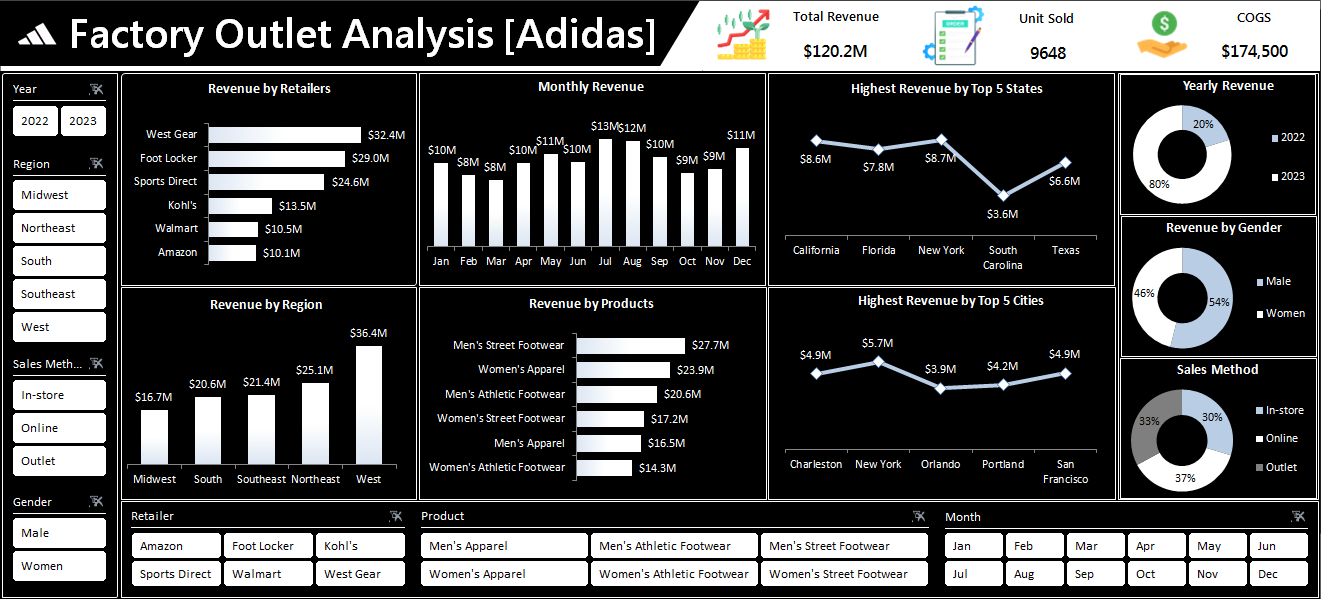

The page's visual inventory and layout, read from the dashboard file:
{"tool":"powerbi","page":{"name":"Factory Outlet Analysis [Adidas]","canvas":[3300,1800],"ordinal":0},"visuals":[{"type":"shape","box":[0,9.7,3298.4,238.7],"z":0},{"type":"shape","box":[372.5,9.7,1352.2,243.6],"z":0,"group":"g1"},{"type":"shape","box":[0,9.7,740.5,243.6],"z":1000,"group":"g1"},{"type":"card","title":"Total Revenue","fields":{"Values":["Factory Outlet Analysis [Adidas].Total Revenue"]},"box":[1817.3,14.6,448.2,229],"z":1000},{"type":"card","title":"Unit Sold","fields":{"Values":["Factory Outlet Analysis [Adidas].Unit Sold"]},"box":[2311.8,9.7,448.2,229],"z":2000},{"type":"card","title":"COGS","fields":{"Values":["Factory Outlet Analysis [Adidas].COGS"]},"box":[2806.3,14.6,448.2,229],"z":3000},{"type":"group","id":"g1","title":"Group 1","box":[0,9.7,1724.7,243.6],"z":4000},{"type":"textbox","box":[160.8,63.3,1398.3,136.4],"z":5000},{"type":"shape","box":[0,146.2,3298.4,238.7],"z":6000},{"type":"clusteredBarChart","title":"Revenue by Retailer","fields":{"Y":["Factory Outlet Analysis [Adidas].Total Revenue"],"Category":["Factory Outlet Analysis [Adidas].Retailer"]},"box":[340.9,277.3,868.2,662.5],"z":7000},{"type":"clusteredColumnChart","title":"Monthly Revenue","fields":{"Y":["Factory Outlet Analysis [Adidas].Total Revenue"],"Category":["Factory Outlet Analysis [Adidas].Month"]},"box":[1218,277.7,1120.6,662.6],"z":8000},{"type":"slicer","title":"Revenue by Retailer","fields":{"Values":["Factory Outlet Analysis [Adidas].Year"]},"box":[8,278.4,326.1,290.3],"z":9000},{"type":"slicer","title":"Revenue by Retailer","fields":{"Values":["Factory Outlet Analysis [Adidas].Region"]},"box":[8,572.6,326.1,405.6],"z":10000},{"type":"slicer","title":"Revenue by Retailer","fields":{"Values":["Factory Outlet Analysis [Adidas].Sales Method"]},"box":[8,982.2,326.1,405.6],"z":11000},{"type":"slicer","title":"Revenue by Retailer","fields":{"Values":["Factory Outlet Analysis [Adidas].Gender"]},"box":[7.5,1391.4,326.9,400],"z":12000},{"type":"clusteredColumnChart","title":"Revenue by Region","fields":{"Category":["Factory Outlet Analysis [Adidas].Region"],"Y":["Factory Outlet Analysis [Adidas].Total Revenue"]},"box":[340.9,945.5,868.2,609.1],"z":13000},{"type":"clusteredBarChart","title":"Revenue by Products","fields":{"Y":["Factory Outlet Analysis [Adidas].Total Revenue"],"Category":["Factory Outlet Analysis [Adidas].Product"]},"box":[1218,945.2,1120.6,609],"z":14000},{"type":"lineChart","title":"Highest Revenue by Top 5 States","fields":{"Category":["Factory Outlet Analysis [Adidas].State"],"Y":["Factory Outlet Analysis [Adidas].Total Revenue"]},"box":[2348.3,277.7,940.3,662.6],"z":15000},{"type":"lineChart","title":"Highest Revenue by Top 5 Cities","fields":{"Y":["Factory Outlet Analysis [Adidas].Total Revenue"],"Category":["Factory Outlet Analysis [Adidas].City"]},"box":[2348.3,945.2,940.3,609],"z":16000},{"type":"slicer","title":"Revenue by Retailer","fields":{"Values":["Factory Outlet Analysis [Adidas].Retailer"]},"box":[342,1558.8,866.9,234.6],"z":17000},{"type":"slicer","title":"Revenue by Retailer","fields":{"Values":["Factory Outlet Analysis [Adidas].Product"]},"box":[1216.8,1558.8,1117.4,234.6],"z":18000},{"type":"slicer","title":"Revenue by Retailer","fields":{"Values":["Factory Outlet Analysis [Adidas].Month"]},"box":[2350.1,1558.8,942.4,234.6],"z":19000},{"type":"image","box":[15.9,75.6,194.8,115.3],"z":20000},{"type":"image","box":[1725.8,59.6,127.2,127.2],"z":21000},{"type":"image","box":[2266.6,47.7,135.2,159.1],"z":22000},{"type":"image","box":[2708,59.6,139.2,155.1],"z":22001}]}

Visuals, with their boxes on the page's 3300x1800 design canvas (x1, y1, x2, y2). These are canvas units, not pixel positions in the 1321x599 screenshot, which may show the page scaled, cropped or inside an application window:
shape: <region>0, 10, 3298, 248</region>
shape: <region>372, 10, 1725, 253</region>
shape: <region>0, 10, 740, 253</region>
"Total Revenue" card: <region>1817, 15, 2266, 244</region>
"Unit Sold" card: <region>2312, 10, 2760, 239</region>
"COGS" card: <region>2806, 15, 3254, 244</region>
"Group 1" group: <region>0, 10, 1725, 253</region>
textbox: <region>161, 63, 1559, 200</region>
shape: <region>0, 146, 3298, 385</region>
"Revenue by Retailer" clusteredBarChart: <region>341, 277, 1209, 940</region>
"Monthly Revenue" clusteredColumnChart: <region>1218, 278, 2339, 940</region>
"Revenue by Retailer" slicer: <region>8, 278, 334, 569</region>
"Revenue by Retailer" slicer: <region>8, 573, 334, 978</region>
"Revenue by Retailer" slicer: <region>8, 982, 334, 1388</region>
"Revenue by Retailer" slicer: <region>8, 1391, 334, 1791</region>
"Revenue by Region" clusteredColumnChart: <region>341, 946, 1209, 1555</region>
"Revenue by Products" clusteredBarChart: <region>1218, 945, 2339, 1554</region>
"Highest Revenue by Top 5 States" lineChart: <region>2348, 278, 3289, 940</region>
"Highest Revenue by Top 5 Cities" lineChart: <region>2348, 945, 3289, 1554</region>
"Revenue by Retailer" slicer: <region>342, 1559, 1209, 1793</region>
"Revenue by Retailer" slicer: <region>1217, 1559, 2334, 1793</region>
"Revenue by Retailer" slicer: <region>2350, 1559, 3292, 1793</region>
image: <region>16, 76, 211, 191</region>
image: <region>1726, 60, 1853, 187</region>
image: <region>2267, 48, 2402, 207</region>
image: <region>2708, 60, 2847, 215</region>
